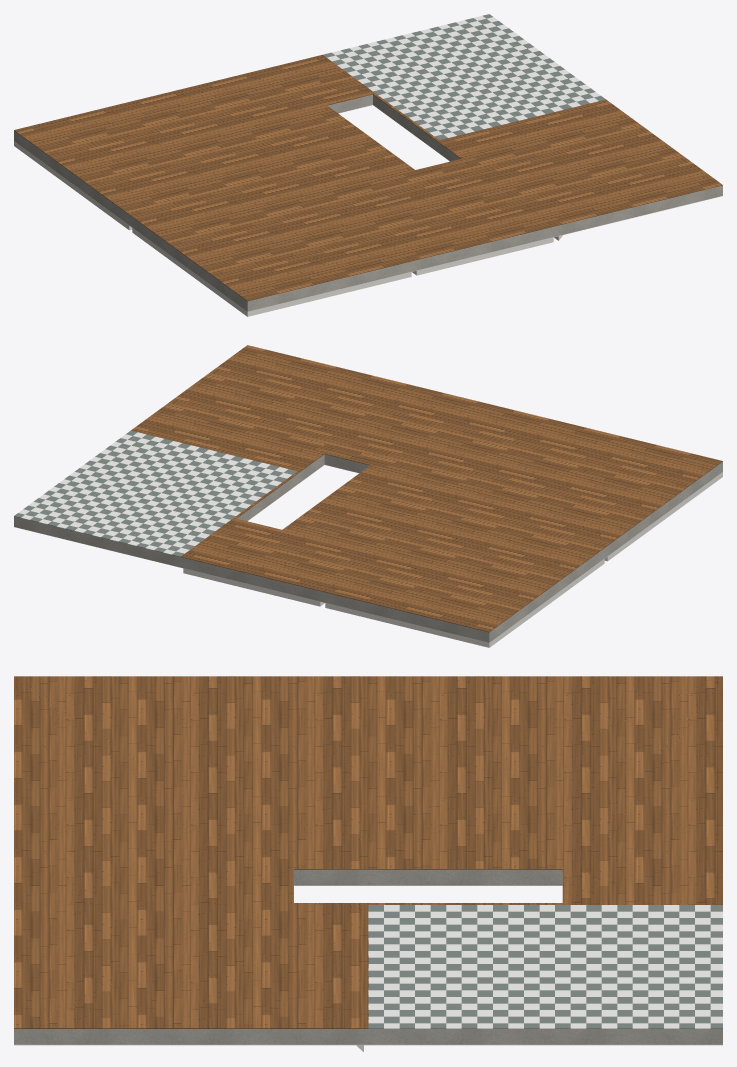
File: floor_upper.glb
3 views of the same model, one above another, from view 1: azimuth 30°, elevation 25°; view 2: azimuth 150°, elevation 25°; view 3: azimuth 270°, elevation 25° (orthographic). The views are drawn at different scales.
Visible parts, largest first — view 1: floor_upper_oak, floor_upper_tile_k, floor_upper_tile, floor_upper_concrete, floor_upper_trim, floor_upper_ceil; view 2: floor_upper_oak, floor_upper_tile_k, floor_upper_tile, floor_upper_concrete, floor_upper_trim, floor_upper_ceil; view 3: floor_upper_oak, floor_upper_tile_k, floor_upper_tile, floor_upper_concrete, floor_upper_ceil.
Part boxes in pixels (<box>): floor_upper_oak: <box>14,54,722,301</box>; floor_upper_tile_k: <box>323,14,605,139</box>; floor_upper_tile: <box>327,16,600,137</box>; floor_upper_concrete: <box>14,94,722,311</box>; floor_upper_trim: <box>14,141,562,316</box>; floor_upper_ceil: <box>14,105,722,311</box>; floor_upper_oak: <box>131,345,722,632</box>; floor_upper_tile_k: <box>14,430,296,556</box>; floor_upper_tile: <box>18,432,291,554</box>; floor_upper_concrete: <box>14,454,722,642</box>; floor_upper_trim: <box>183,472,722,647</box>; floor_upper_ceil: <box>14,464,722,642</box>; floor_upper_oak: <box>14,676,722,1028</box>; floor_upper_tile_k: <box>368,905,722,1028</box>; floor_upper_tile: <box>368,905,722,1028</box>; floor_upper_concrete: <box>14,869,722,1044</box>; floor_upper_ceil: <box>14,885,722,1045</box>.
Size of the model in its own units: 13.4 by 0.43 by 11.4.
Materials: 6 (2 with a texture image).
